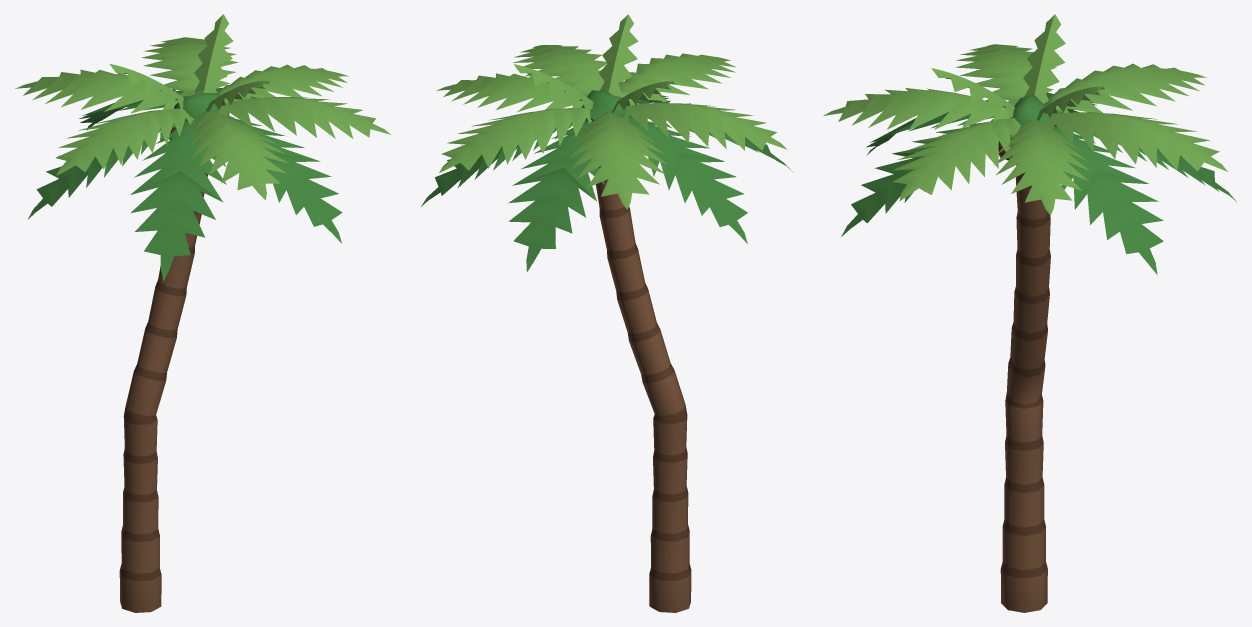
The model's file is palm_b.glb.
3 renders of one model, left to right at view 1: azimuth 30°, elevation 25°; view 2: azimuth 150°, elevation 25°; view 3: azimuth 270°, elevation 25°, orthographic. The views are drawn at different scales.
Visible parts, largest first — view 1: body; view 2: body; view 3: body.
Part boxes in pixels (bbox=[...]): body: bbox=[15, 14, 390, 612]; body: bbox=[421, 14, 793, 612]; body: bbox=[823, 14, 1236, 612].
Size of the model in its own units: 4.14 by 6.57 by 4.26.
